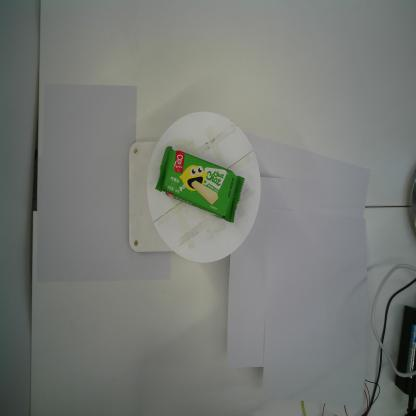Dessert: (152, 144, 246, 226)
